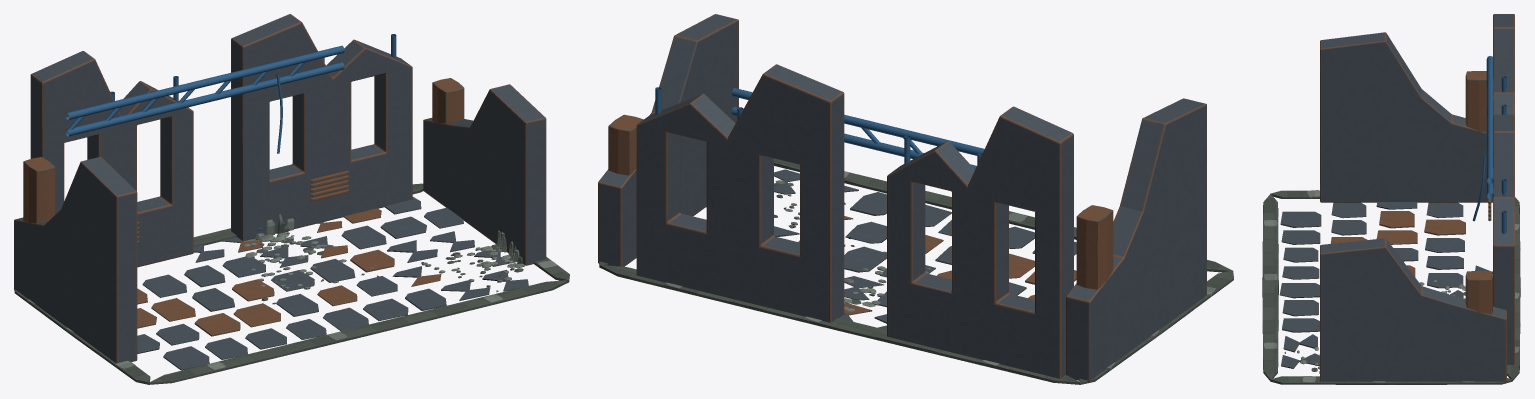
File: station_hall.glb
The picture shows the model from 3 angles, left to right: view 1: azimuth 30°, elevation 25°; view 2: azimuth 150°, elevation 25°; view 3: azimuth 270°, elevation 25°; orthographic projection. The views are drawn at different scales.
Parts seen in each view (by area): view 1: GT_0131_station_hall_Structure, GT_0131_station_hall_GroundContact; view 2: GT_0131_station_hall_Structure, GT_0131_station_hall_GroundContact; view 3: GT_0131_station_hall_Structure, GT_0131_station_hall_GroundContact.
Boxes of the visible parts, left/top/right/bottom form: GT_0131_station_hall_Structure: left=14, top=14, right=546, bottom=363; GT_0131_station_hall_GroundContact: left=14, top=183, right=569, bottom=384; GT_0131_station_hall_Structure: left=598, top=14, right=1206, bottom=382; GT_0131_station_hall_GroundContact: left=599, top=158, right=1233, bottom=384; GT_0131_station_hall_Structure: left=1319, top=14, right=1514, bottom=383; GT_0131_station_hall_GroundContact: left=1262, top=190, right=1520, bottom=384.
Bounding box in the file's own units: 16.6 × 8 × 9.4.
Materials: 1 (1 with a texture image).
